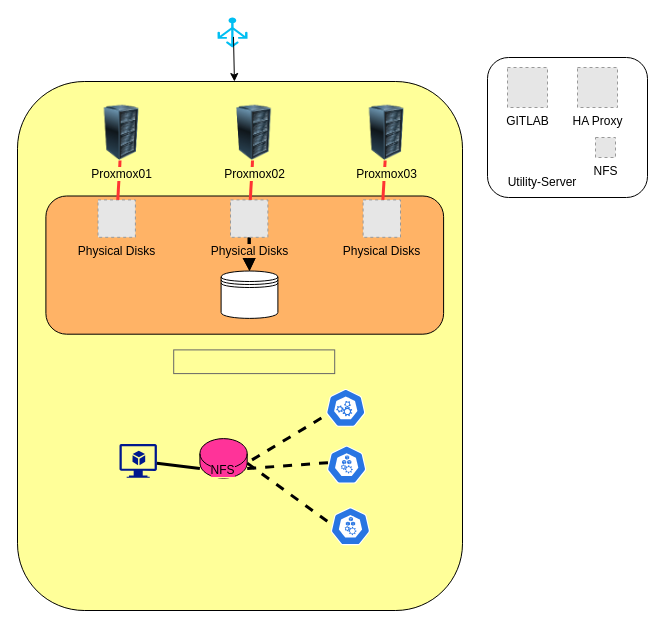
Image size: 665x628. Some labels were removed from this diagram. Grey dashed boxes stand in for pictures. The centre of each missing label's shape, as x and y in pixels:
CEPH: (249,294)
Load Balancer: (232,32)
Proxmox HA Cluster: (254,361)
Utility Server: (137,460)
